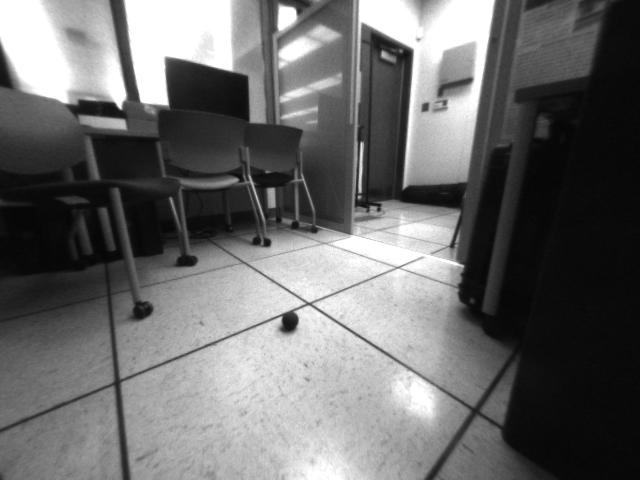dogtoy: (274, 303, 306, 337)
